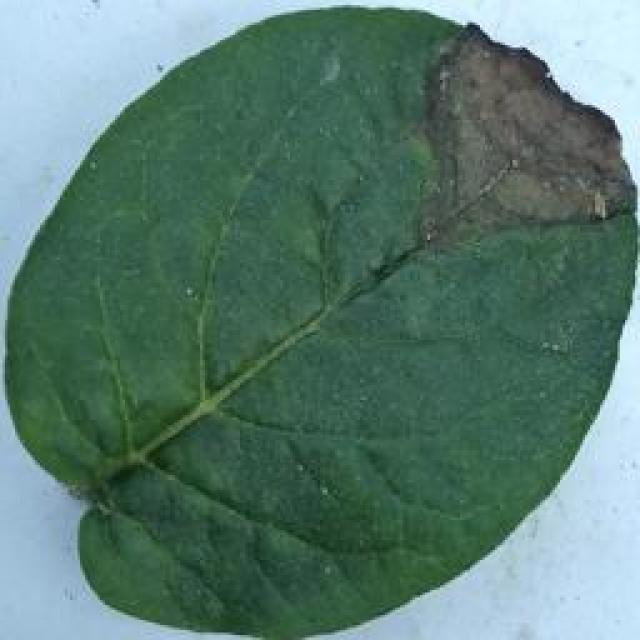Potato_Late_Blight: (8, 9, 628, 635)
